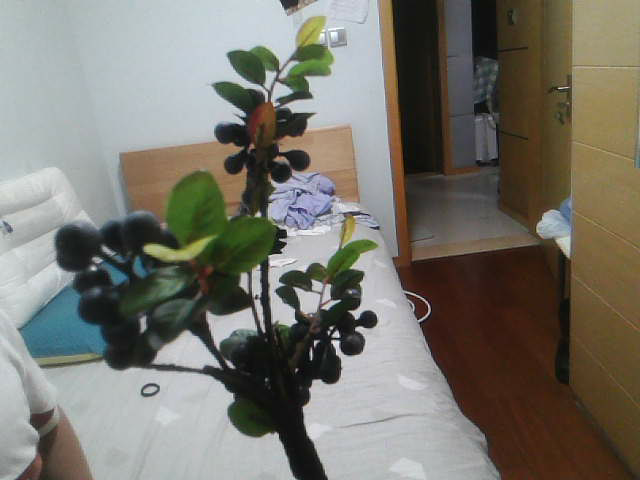blueberry: (93, 215, 129, 270), (55, 220, 93, 265), (225, 396, 263, 432), (76, 290, 114, 323), (72, 293, 111, 318), (213, 121, 251, 144), (308, 354, 339, 382), (129, 213, 156, 241), (340, 285, 369, 310), (340, 331, 368, 354), (216, 150, 244, 171), (264, 161, 285, 186), (110, 321, 135, 340), (106, 356, 137, 369), (287, 144, 304, 165), (285, 114, 304, 125), (291, 377, 308, 386)
